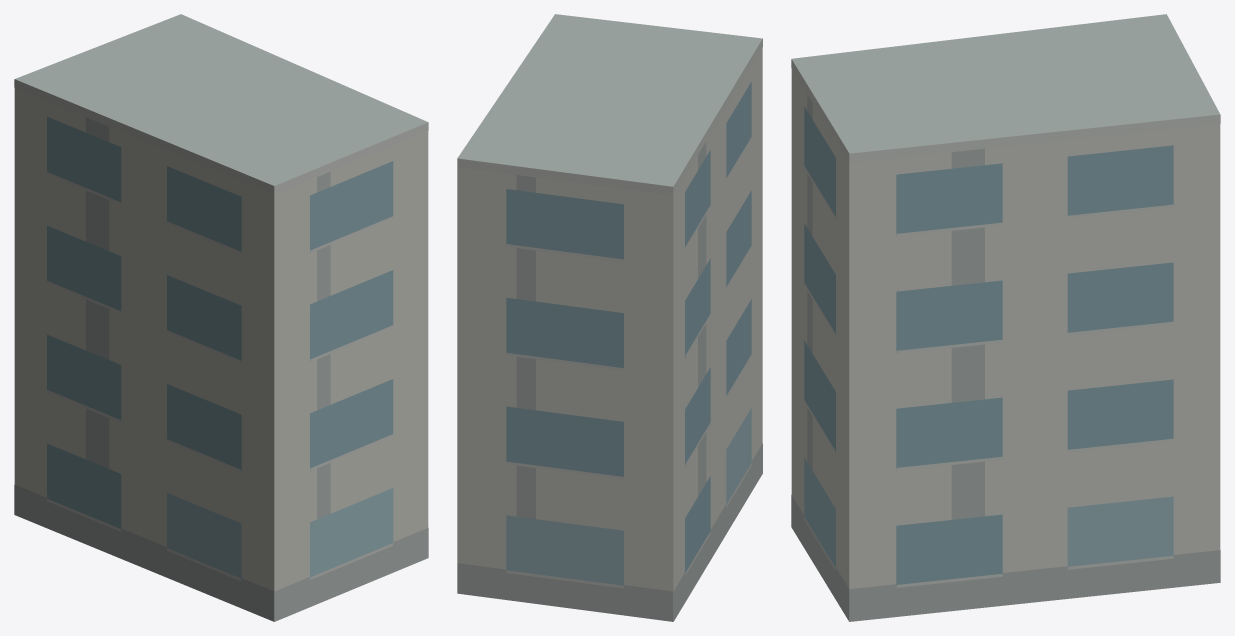
The model's file is residential-37c29d50-585c-455d-90b2-877c598b8738.glb.
The picture shows the model from 3 angles, left to right: view 1: azimuth 30°, elevation 25°; view 2: azimuth 150°, elevation 25°; view 3: azimuth 270°, elevation 25°; orthographic projection. The views are drawn at different scales.
Parts seen in each view (by area): view 1: residential-37c29d50-585c-455d-90b2-877c598b8738.tmp; view 2: residential-37c29d50-585c-455d-90b2-877c598b8738.tmp; view 3: residential-37c29d50-585c-455d-90b2-877c598b8738.tmp.
Part boxes in pixels (<box>): residential-37c29d50-585c-455d-90b2-877c598b8738.tmp: <box>14,14,428,621</box>; residential-37c29d50-585c-455d-90b2-877c598b8738.tmp: <box>457,14,762,621</box>; residential-37c29d50-585c-455d-90b2-877c598b8738.tmp: <box>791,14,1220,621</box>.
Bounding box in the file's own units: 7.81 × 12.2 × 10.14.
